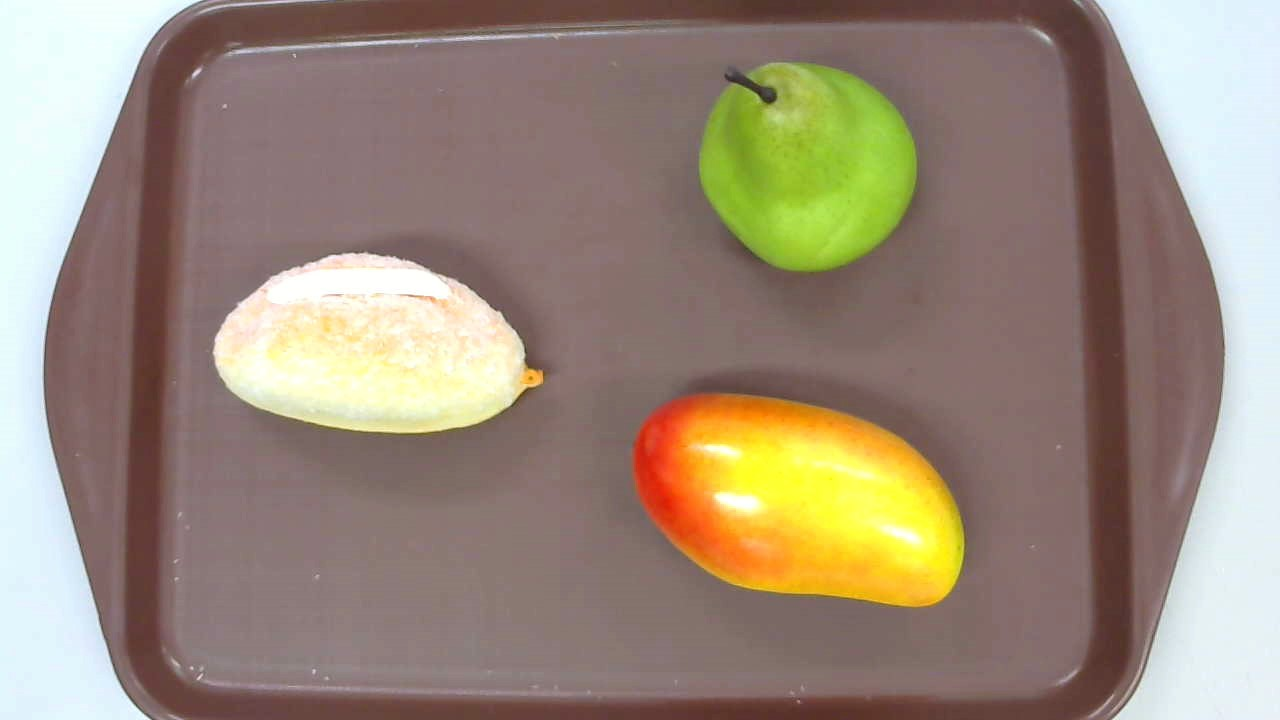coconut: (213, 253, 542, 434)
green pear: (699, 59, 916, 272)
red mango: (632, 390, 964, 609)
